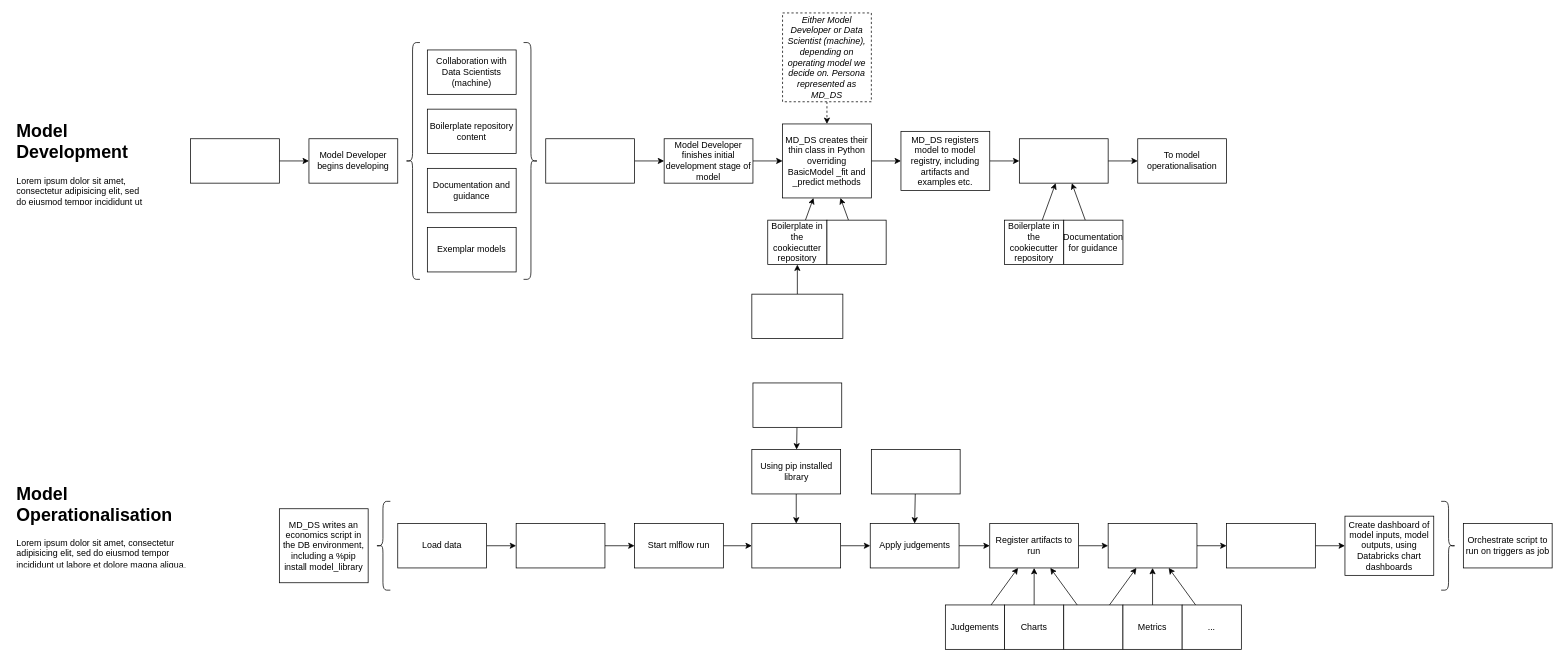
Some shapes in this 1565 by 662 pixel diagram are drawn without their labels. The shapes that lost their labels are listed below. From the top down, each one's centre as x and y in pixels, then its label:
At [234,160]: "Create new repository for model from boilerplate (cookiecutter?)".
At [590,160]: "Model Developer exposes correct APIs (fit, predict, parameters, logging)".
At [1063,160]: "MD_DS pip installs the model to our BoE internal repository (artifactory)".
At [856,242]: "BoEModels library".
At [797,316]: "Interlanguage communication boilerplate for different modelling langs.".
At [797,404]: "Handles model-specific inter-process communication".
At [915,471]: "Using custom judgement library with GUI in notebook".
At [560,545]: "Transform".
At [796,545]: "Run model".
At [1152,545]: "Register other metadata to the run".
At [1270,545]: "Log the run".
At [1093,626]: "Commentary".
